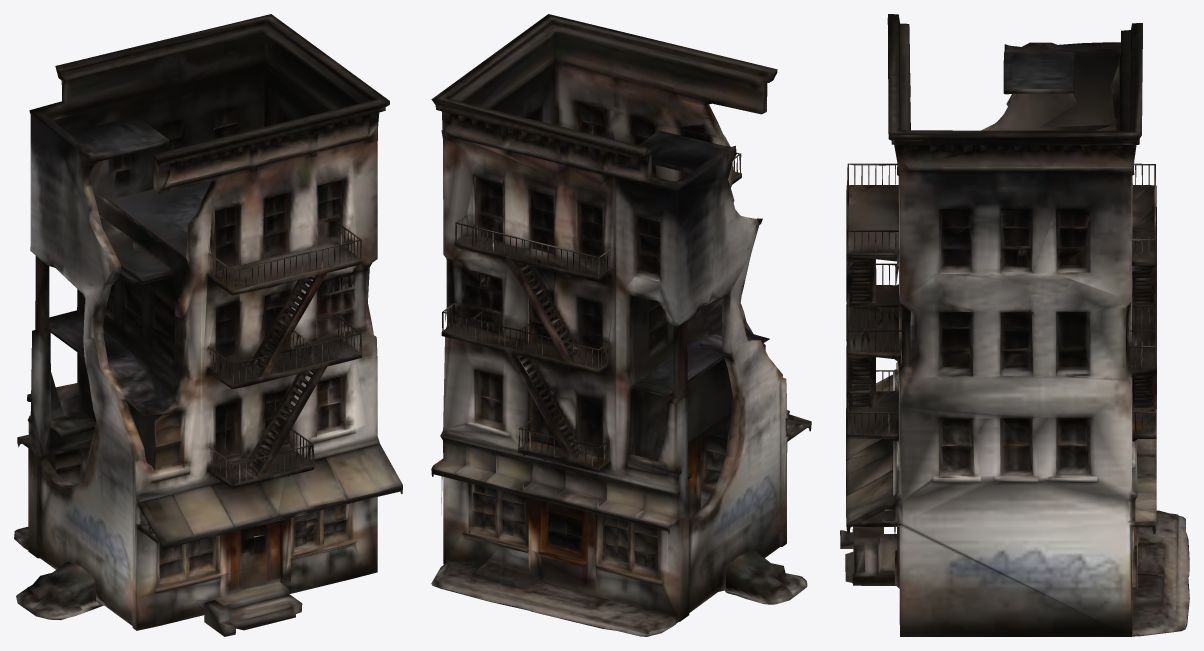
Rendered from ruin_a.glb.
The picture shows the model from 3 angles, left to right: view 1: azimuth 30°, elevation 25°; view 2: azimuth 150°, elevation 25°; view 3: azimuth 270°, elevation 25°; orthographic projection. The views are drawn at different scales.
Visible parts, largest first — view 1: material; view 2: material; view 3: material.
Boxes of the visible parts, x1,y1,x2,y2 form: material: (14, 14, 402, 636); material: (431, 14, 811, 636); material: (840, 14, 1189, 636).
Size of the model in its own units: 0.6207 by 0.911 by 0.5709.
Materials: 1 (1 with a texture image).
